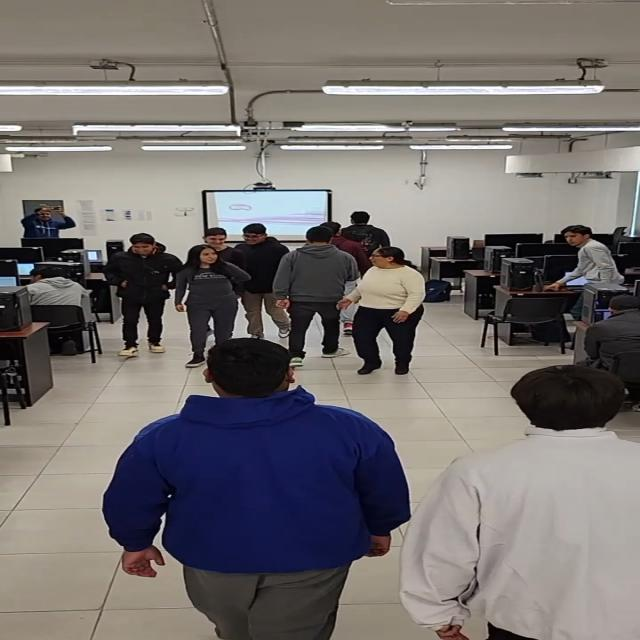Persona: (121, 339, 400, 640), (403, 364, 640, 639), (345, 246, 433, 376), (106, 231, 174, 357), (286, 224, 347, 363), (179, 243, 234, 365), (238, 220, 290, 342)
